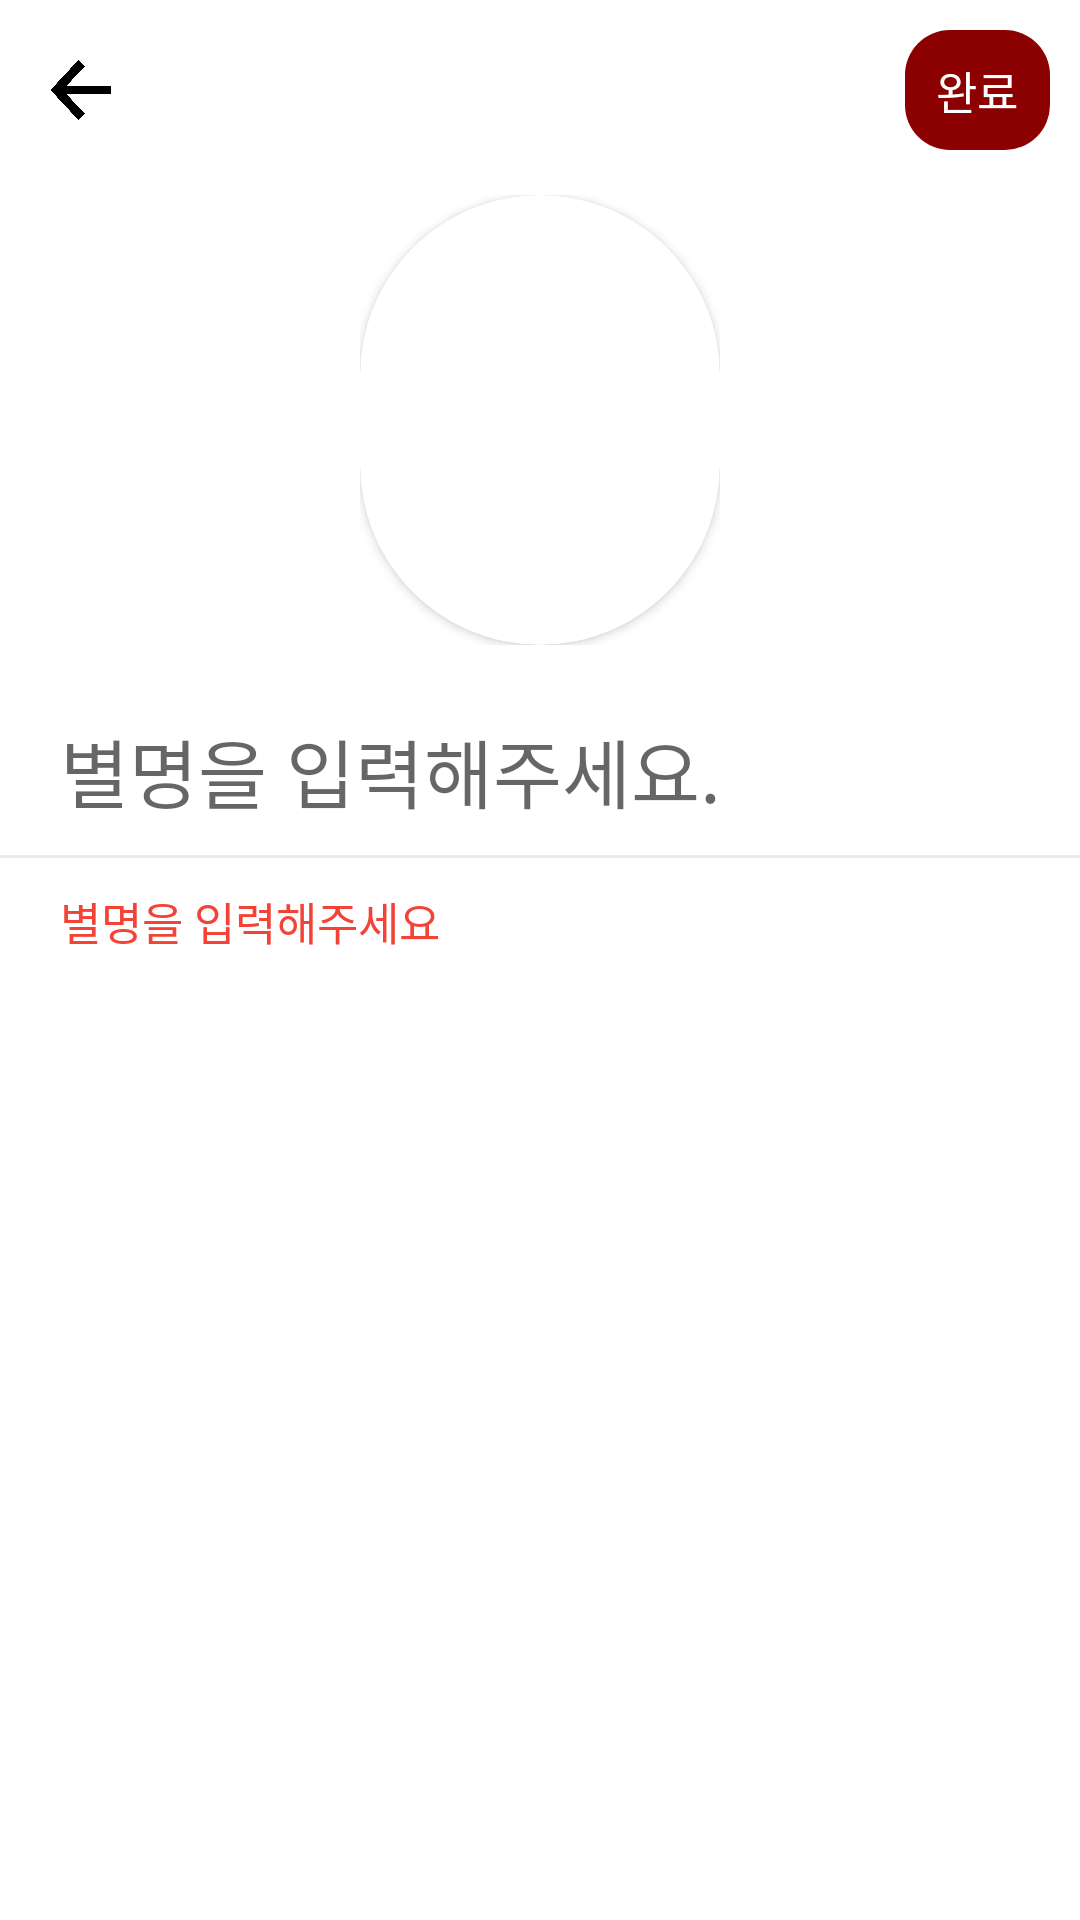

Screen size 1080x1920. Icon name, then its box in pixels as (x1, y1, x2, y2):
back mini: (51, 60, 111, 120)
